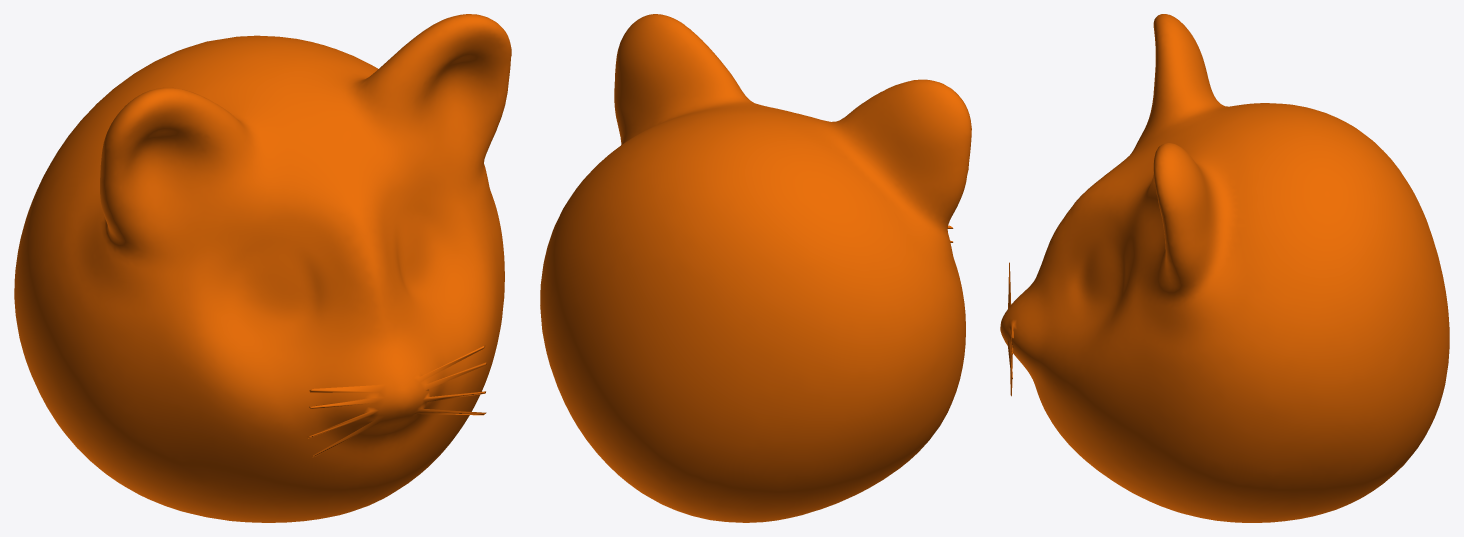
The model's file is gato.glb.
3 views of the same model, side by side, from view 1: azimuth 30°, elevation 25°; view 2: azimuth 150°, elevation 25°; view 3: azimuth 270°, elevation 25° (orthographic). The views are drawn at different scales.
Visible parts, largest first — view 1: gato_sculptris; view 2: gato_sculptris; view 3: gato_sculptris.
Boxes of the visible parts, x1,y1,x2,y2 form: gato_sculptris: (14, 14, 511, 522); gato_sculptris: (540, 14, 971, 522); gato_sculptris: (1000, 14, 1449, 522).
Size of the model in its own units: 4.88 by 5.09 by 4.96.
